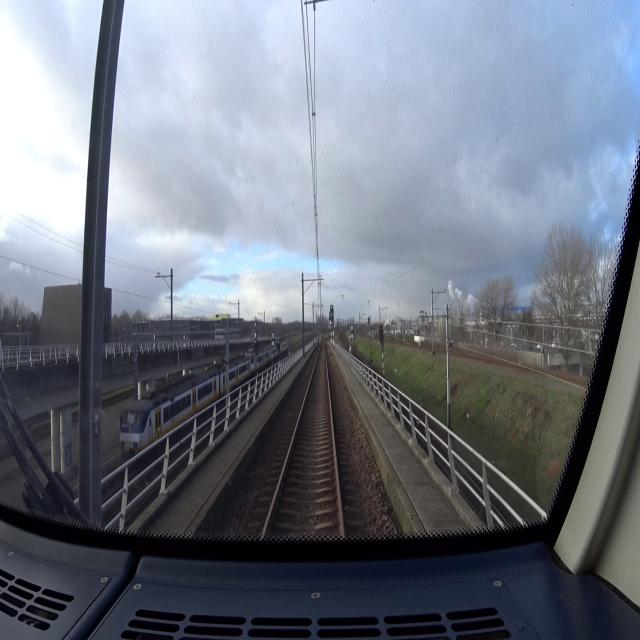rail-track: (266, 343, 340, 528), (31, 405, 78, 428)
